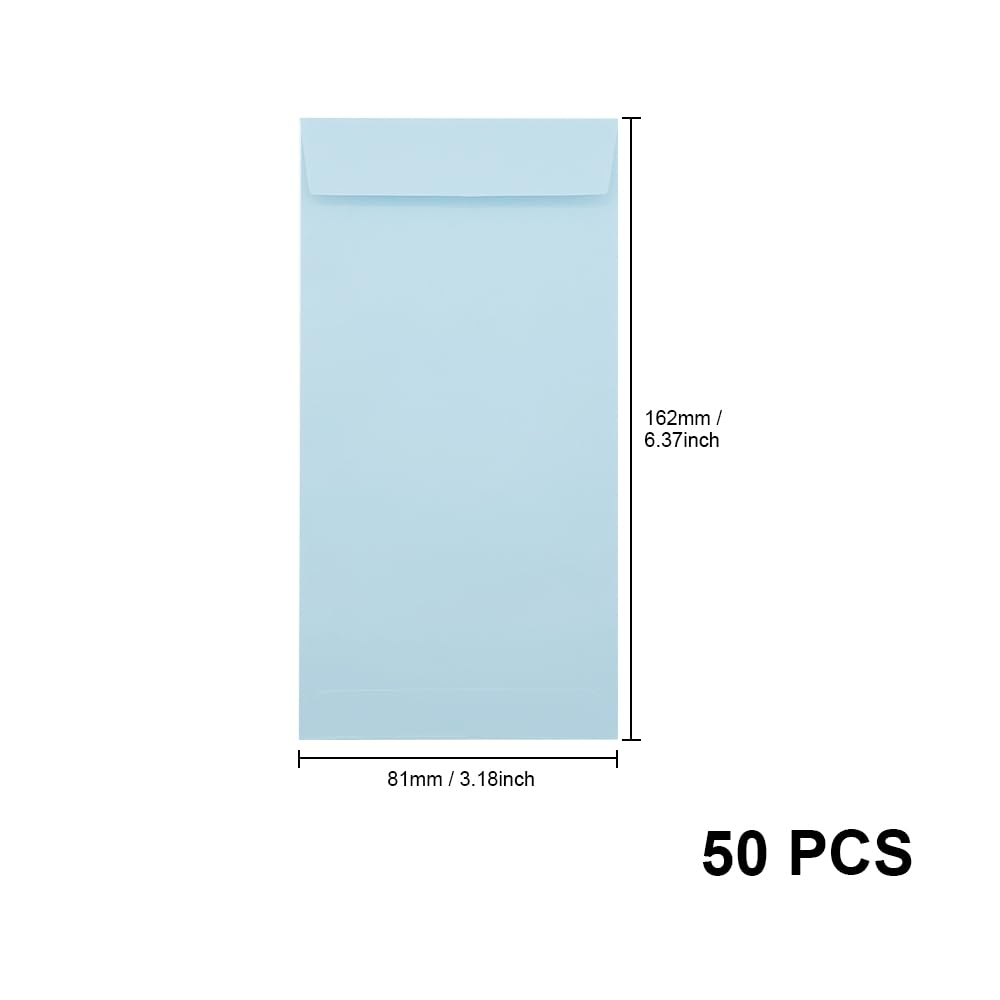/: (716, 410, 722, 425)
162mm: (646, 410, 710, 425)
50: (703, 830, 767, 876)
6.37inch: (645, 432, 719, 447)
81mm: (388, 771, 442, 786)
PCS: (791, 829, 912, 876)
